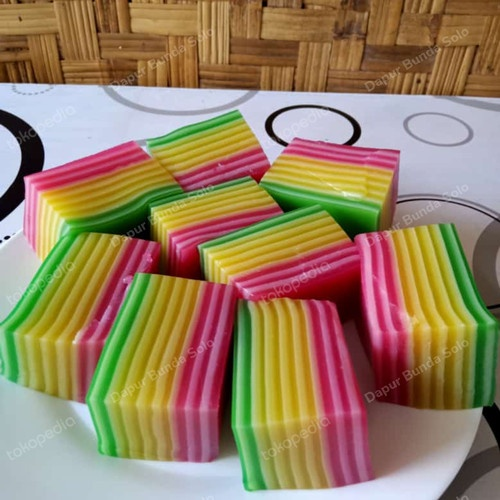kue_lapis_pelangi: (89, 273, 244, 462), (232, 299, 377, 488), (1, 231, 162, 401), (352, 221, 496, 409), (22, 139, 184, 255), (195, 205, 358, 298), (144, 109, 271, 200), (260, 135, 400, 211)
